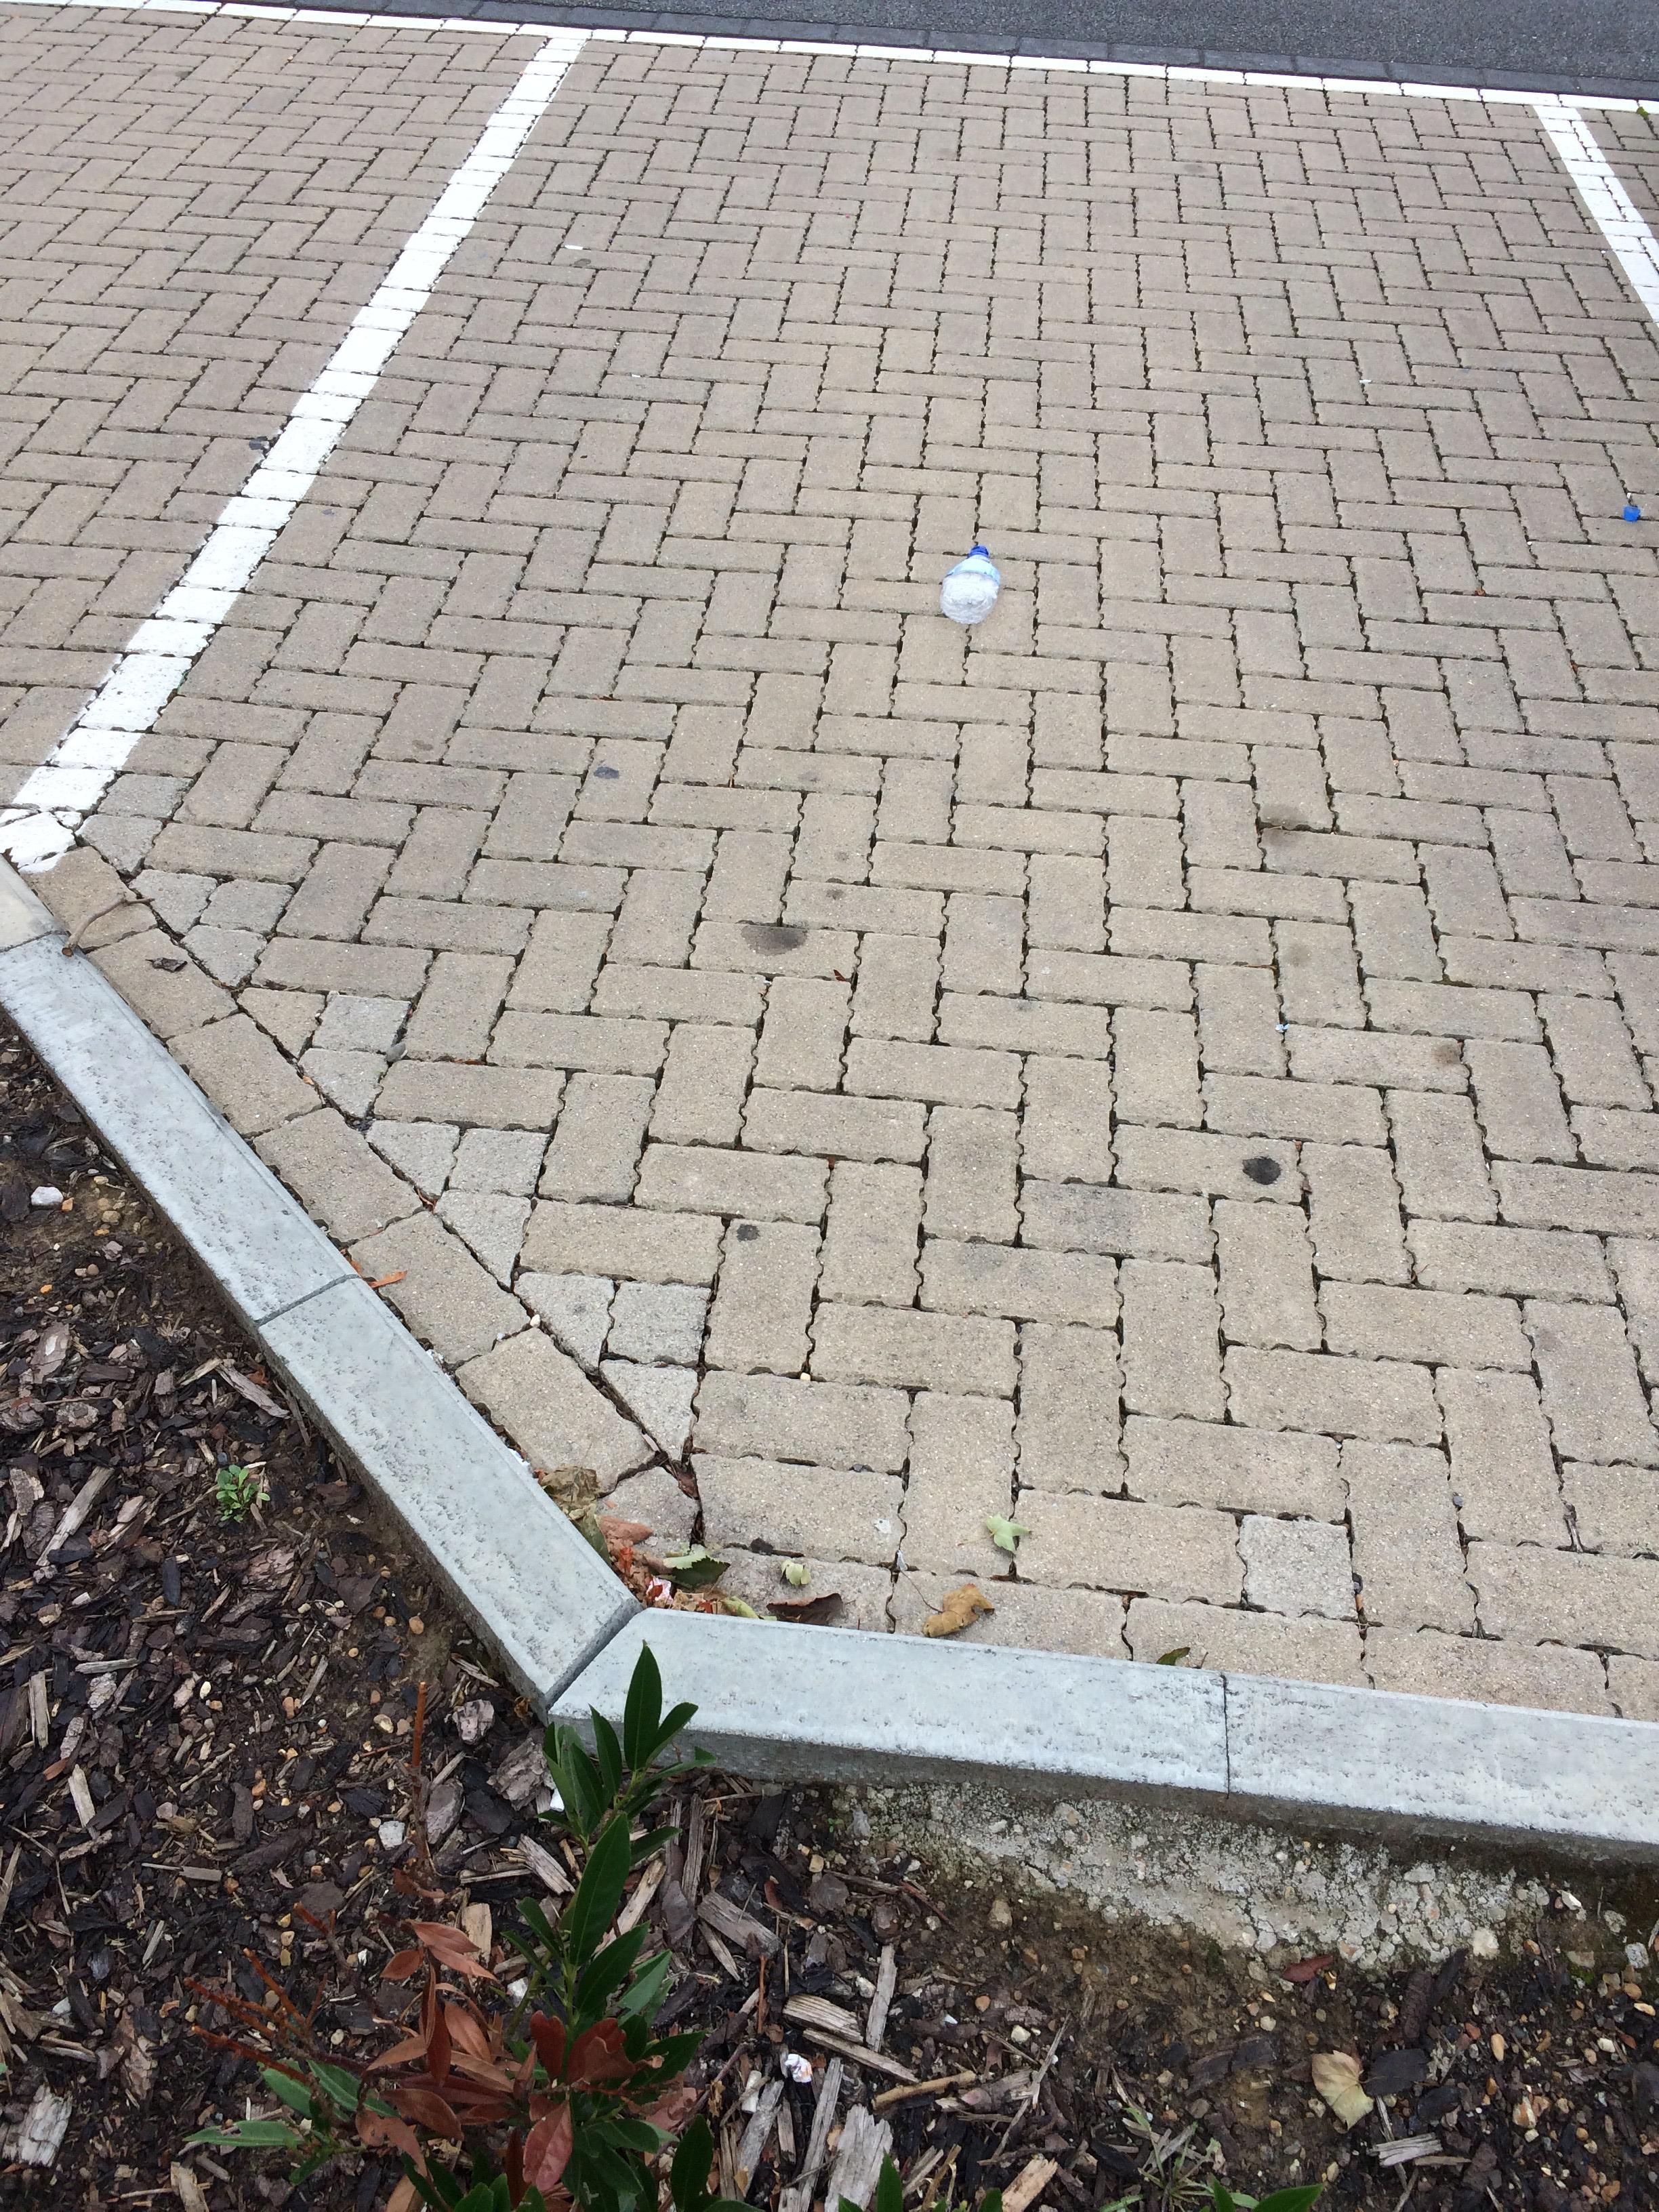Trash: (941, 536, 1006, 629)
